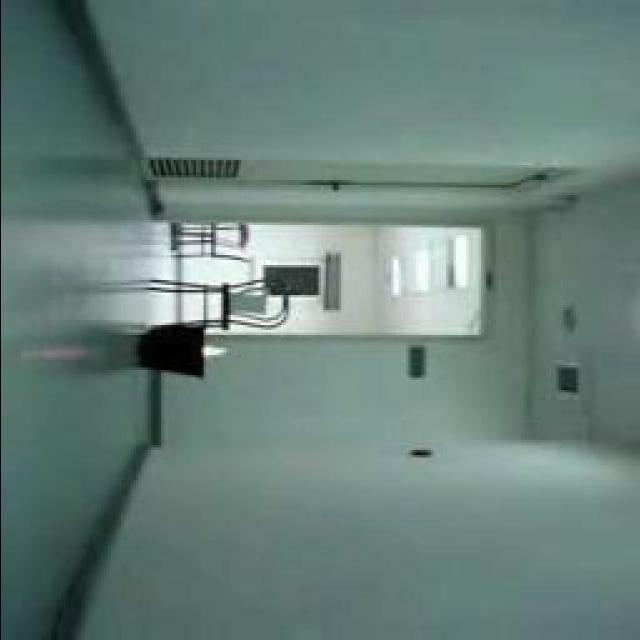Fire: (205, 342, 232, 358)
